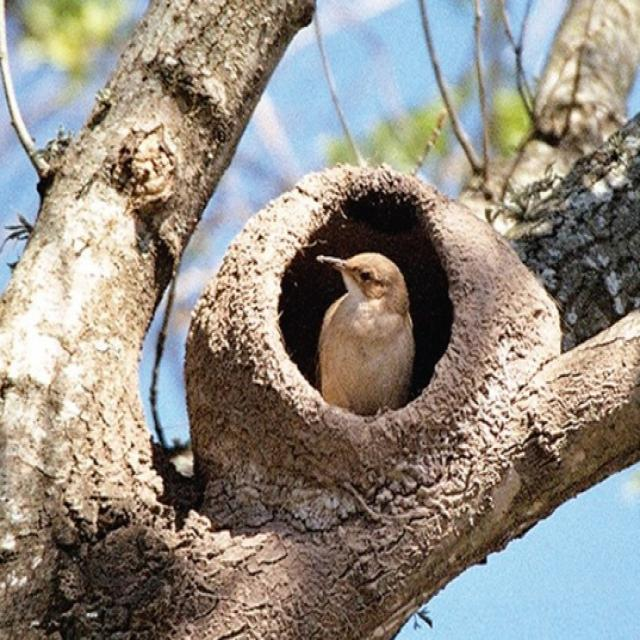bird: (306, 244, 416, 413)
